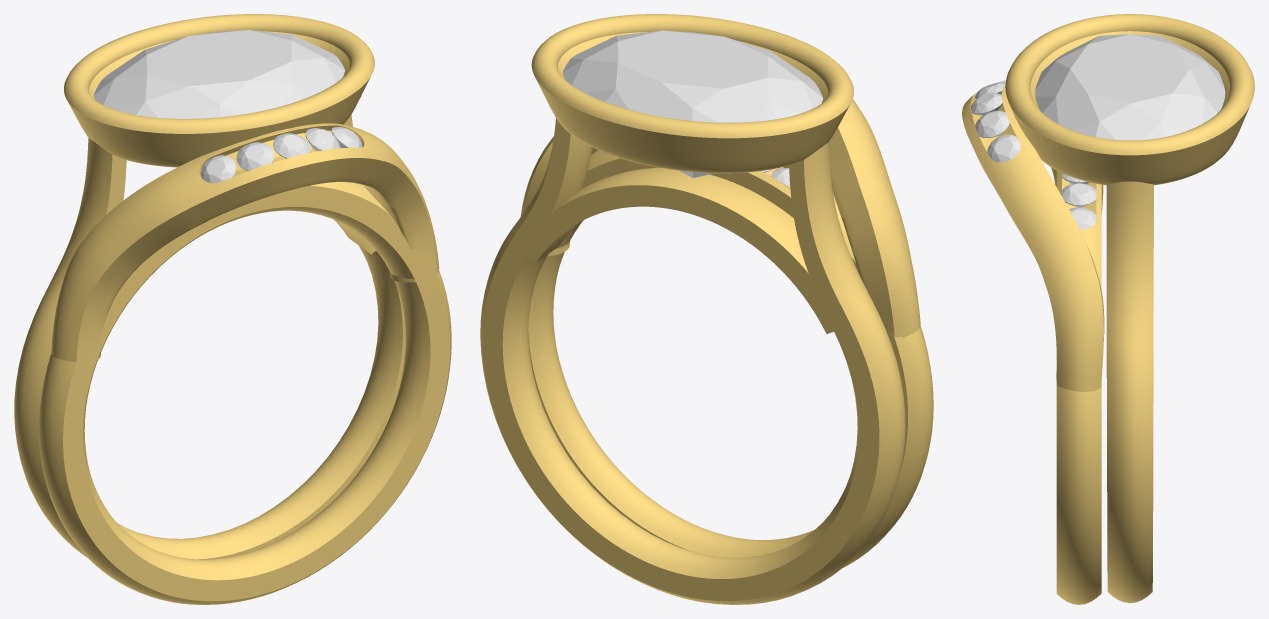
The model's file is JessicaYG10stone_blender.glb.
The picture shows the model from 3 angles, left to right: view 1: azimuth 30°, elevation 25°; view 2: azimuth 150°, elevation 25°; view 3: azimuth 270°, elevation 25°; orthographic projection. The views are drawn at different scales.
Visible parts, largest first — view 1: V3 Jessica YG for 3d model, V3 Jessica dia for 3d model.010, V3 Jessica dia for 3d model.006, V3 Jessica dia for 3d model.005, V3 Jessica dia for 3d model.007, V3 Jessica dia for 3d model.008; view 2: V3 Jessica YG for 3d model, V3 Jessica dia for 3d model.010; view 3: V3 Jessica YG for 3d model, V3 Jessica dia for 3d model.010, V3 Jessica dia for 3d model.008, V3 Jessica dia for 3d model.009, V3 Jessica dia for 3d model.003, V3 Jessica dia for 3d model.007, V3 Jessica dia for 3d model.004.
Boxes of the visible parts, box(x1,y1,x2,y2) form: V3 Jessica YG for 3d model: box(14, 14, 451, 604); V3 Jessica dia for 3d model.010: box(93, 30, 344, 118); V3 Jessica dia for 3d model.006: box(236, 142, 274, 171); V3 Jessica dia for 3d model.005: box(200, 155, 235, 183); V3 Jessica dia for 3d model.007: box(273, 133, 310, 158); V3 Jessica dia for 3d model.008: box(305, 128, 340, 151); V3 Jessica YG for 3d model: box(480, 14, 933, 604); V3 Jessica dia for 3d model.010: box(562, 30, 822, 177); V3 Jessica YG for 3d model: box(962, 14, 1254, 604); V3 Jessica dia for 3d model.010: box(1035, 34, 1225, 140); V3 Jessica dia for 3d model.008: box(975, 110, 1009, 137); V3 Jessica dia for 3d model.009: box(987, 134, 1020, 162); V3 Jessica dia for 3d model.003: box(1062, 183, 1096, 207); V3 Jessica dia for 3d model.007: box(971, 93, 1002, 115); V3 Jessica dia for 3d model.004: box(1069, 207, 1096, 229).
Bounding box in the file's own units: 18.58 × 22.75 × 11.74.
